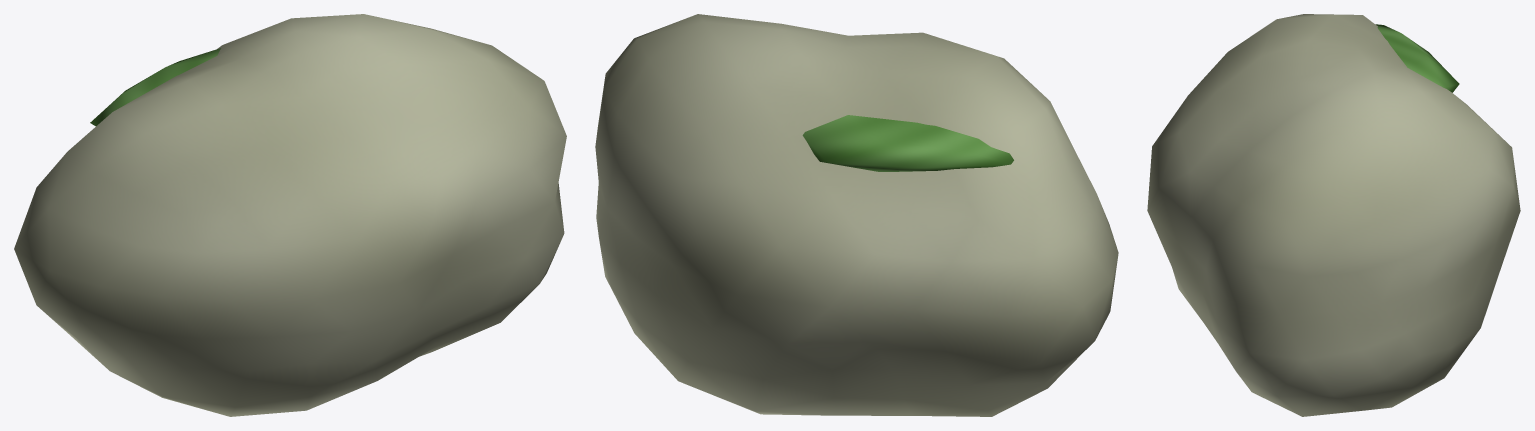
Rendered from garden_boulder_a.glb.
3 views of the same model, side by side, from view 1: azimuth 30°, elevation 25°; view 2: azimuth 150°, elevation 25°; view 3: azimuth 270°, elevation 25° (orthographic). The views are drawn at different scales.
Visible parts, largest first — view 1: garden_boulder_a.002; view 2: garden_boulder_a.002; view 3: garden_boulder_a.002.
Boxes of the visible parts, x1,y1,x2,y2 form: garden_boulder_a.002: (14,14,566,416); garden_boulder_a.002: (595,14,1118,416); garden_boulder_a.002: (1147,14,1520,416).
Bounding box in the file's own units: 3.32 × 2.14 × 2.38.
Materials: 1 (1 with a texture image).
